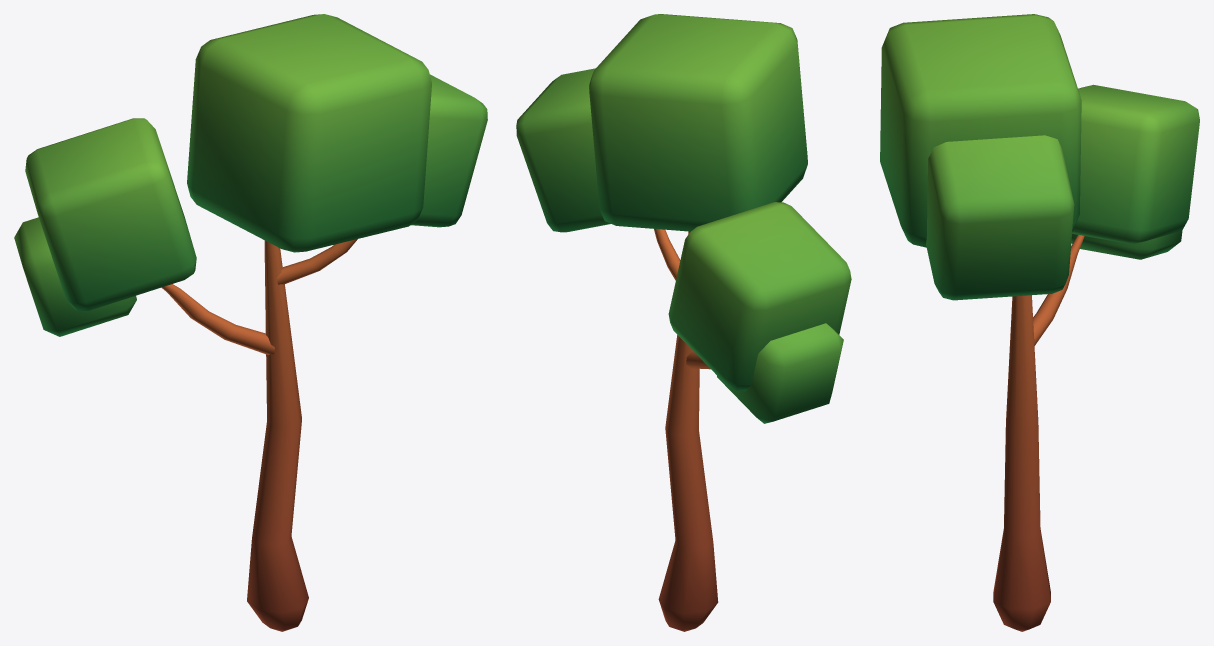
File: Tree_2_C.glb
The picture shows the model from 3 angles, left to right: view 1: azimuth 30°, elevation 25°; view 2: azimuth 150°, elevation 25°; view 3: azimuth 270°, elevation 25°; orthographic projection. The views are drawn at different scales.
Visible parts, largest first — view 1: Tree_2_C_Color1; view 2: Tree_2_C_Color1; view 3: Tree_2_C_Color1.
Boxes of the visible parts, x1=… form: Tree_2_C_Color1: x1=14, y1=14, x2=487, y2=631; Tree_2_C_Color1: x1=516, y1=14, x2=851, y2=631; Tree_2_C_Color1: x1=880, y1=14, x2=1199, y2=631.
Size of the model in its own units: 4.6 by 6.92 by 3.4.
Materials: 1 (1 with a texture image).
